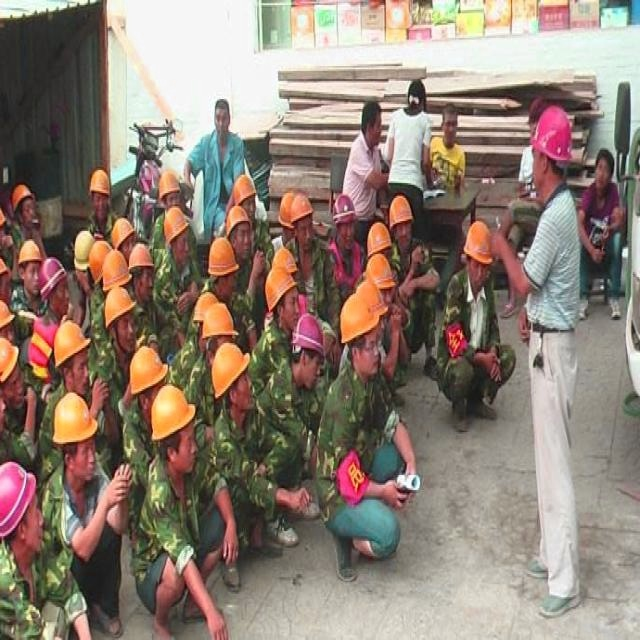Con_Casco: (532, 109, 571, 192), (211, 342, 251, 416)
